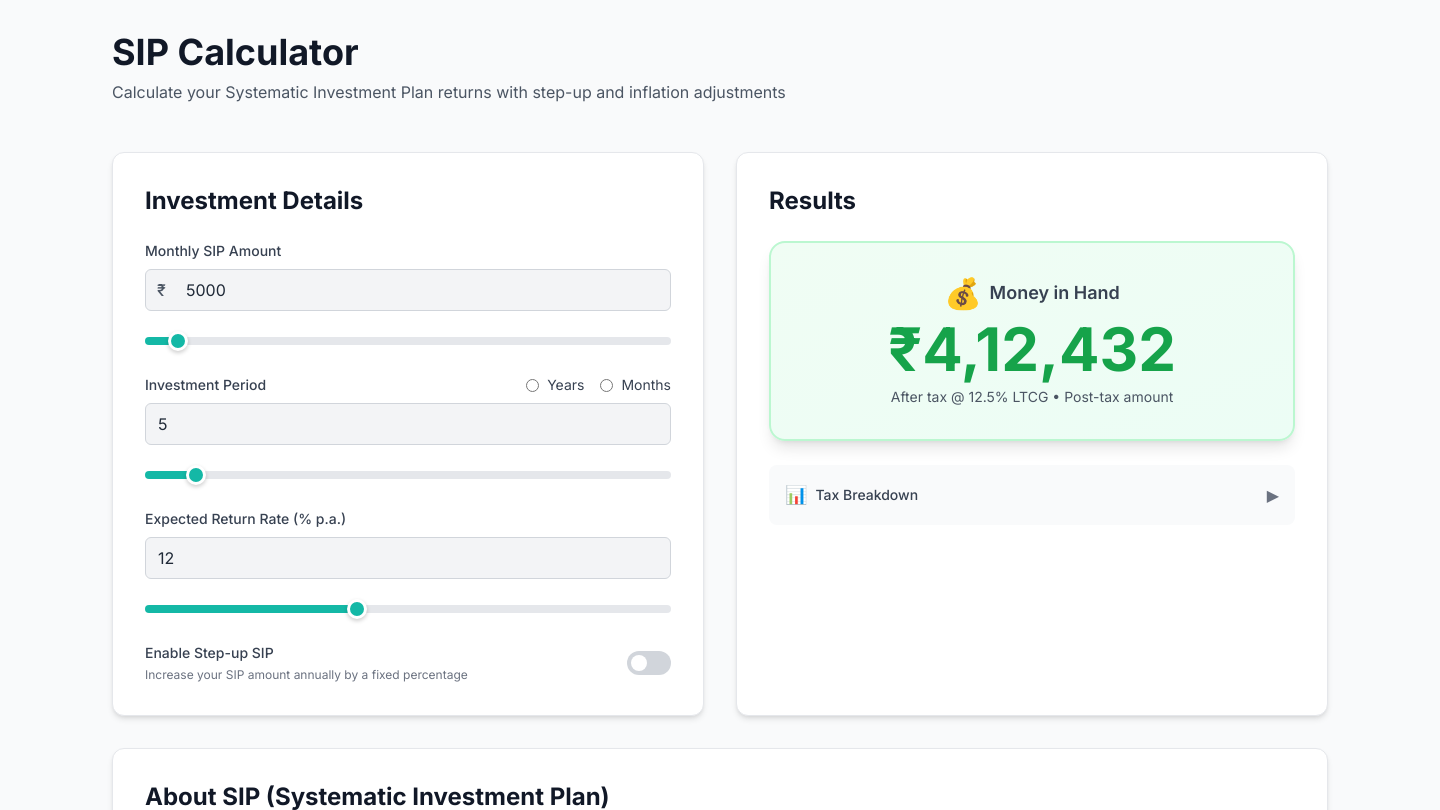
Test: SIP Calculator › SIP-08 / SIP-09: Validation › SIP-09: should validate tenure between 1-50 years
The width and height of the screenshot is (1440, 810).
Step 1. Type "60" into the number field with placeholder "5" below "Investment Period" → (408, 424), box [145, 403, 671, 445]
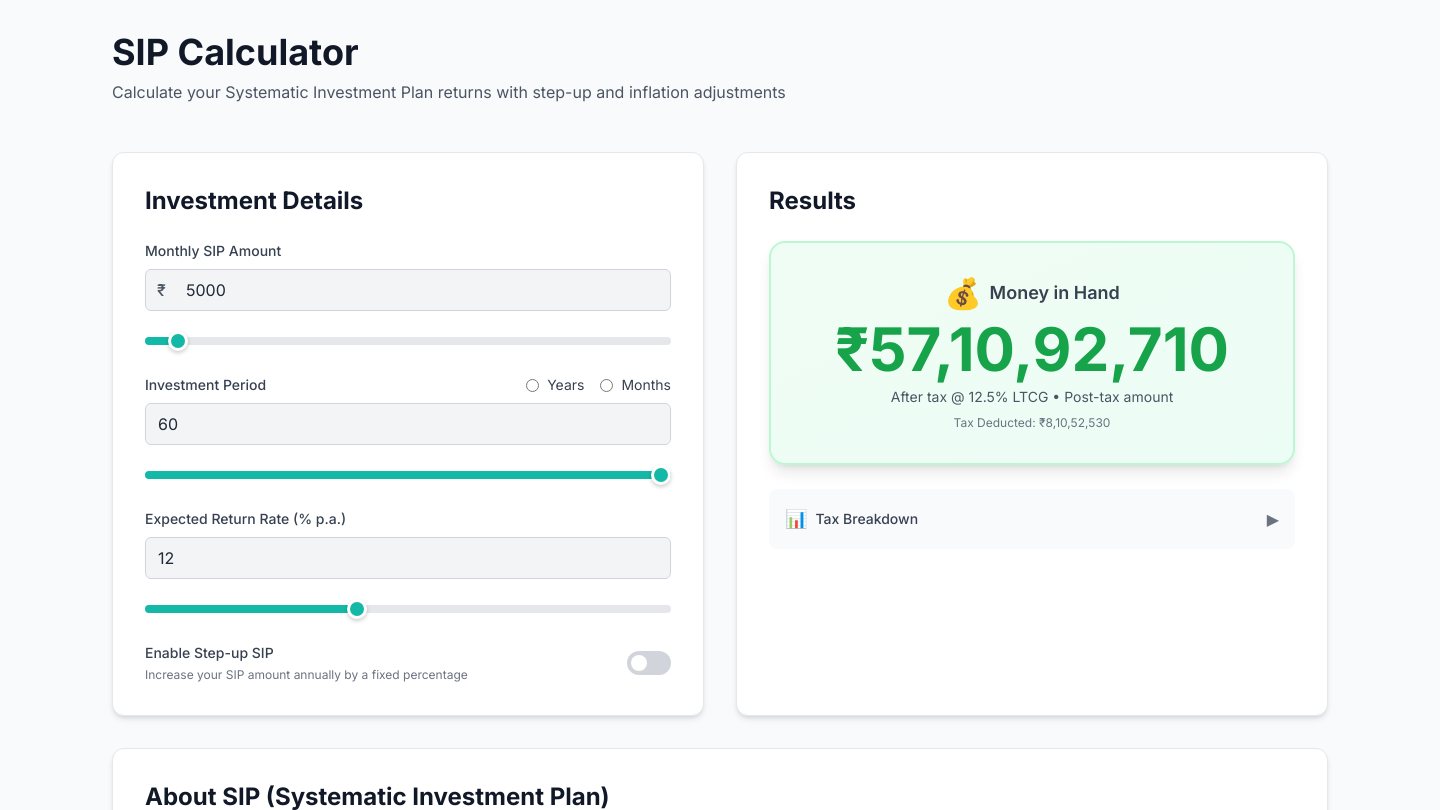
Step 2. Leave the number field with placeholder "5" below "Investment Period", box [145, 403, 671, 445]
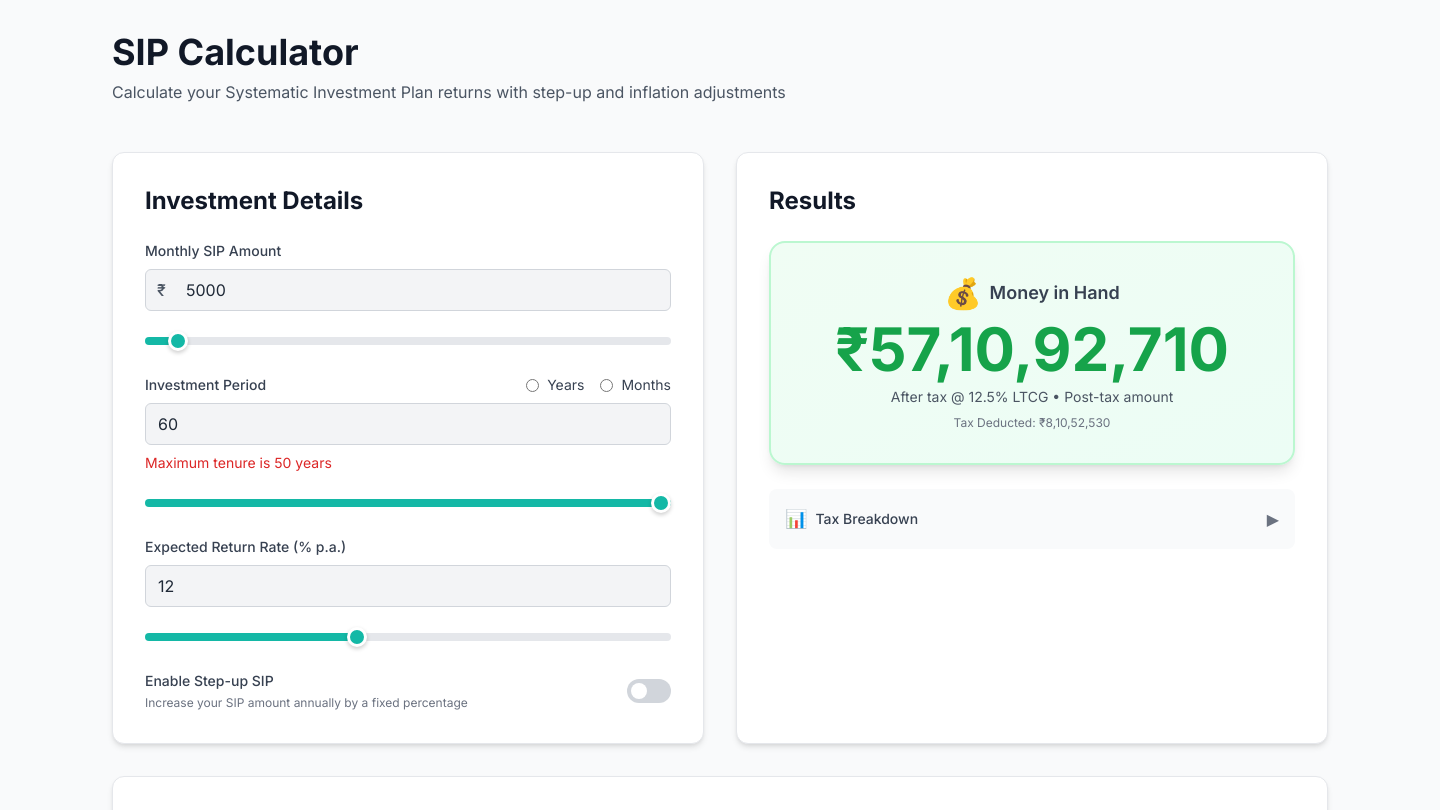
Result: the text "Maximum tenure is 50 years" is shown at [145, 454, 332, 471]
